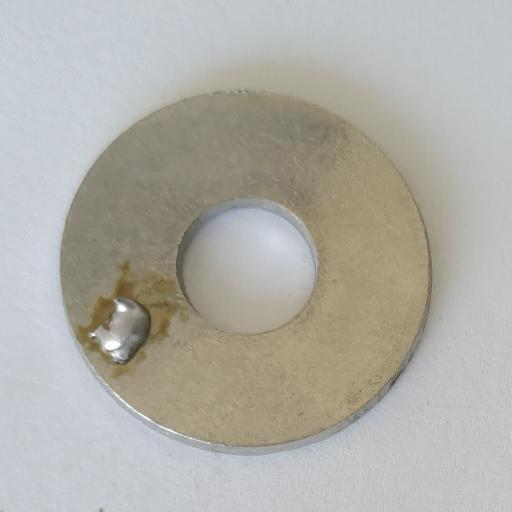excess_material: (88, 298, 150, 365)
